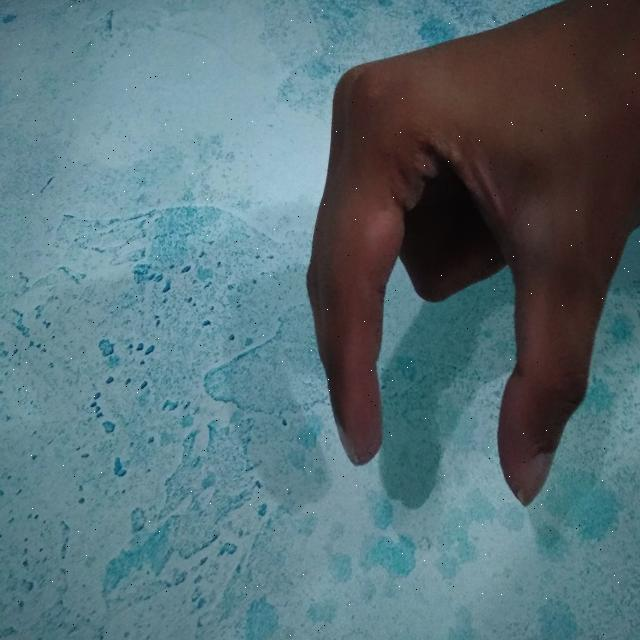Q: (295, 0, 639, 516)
